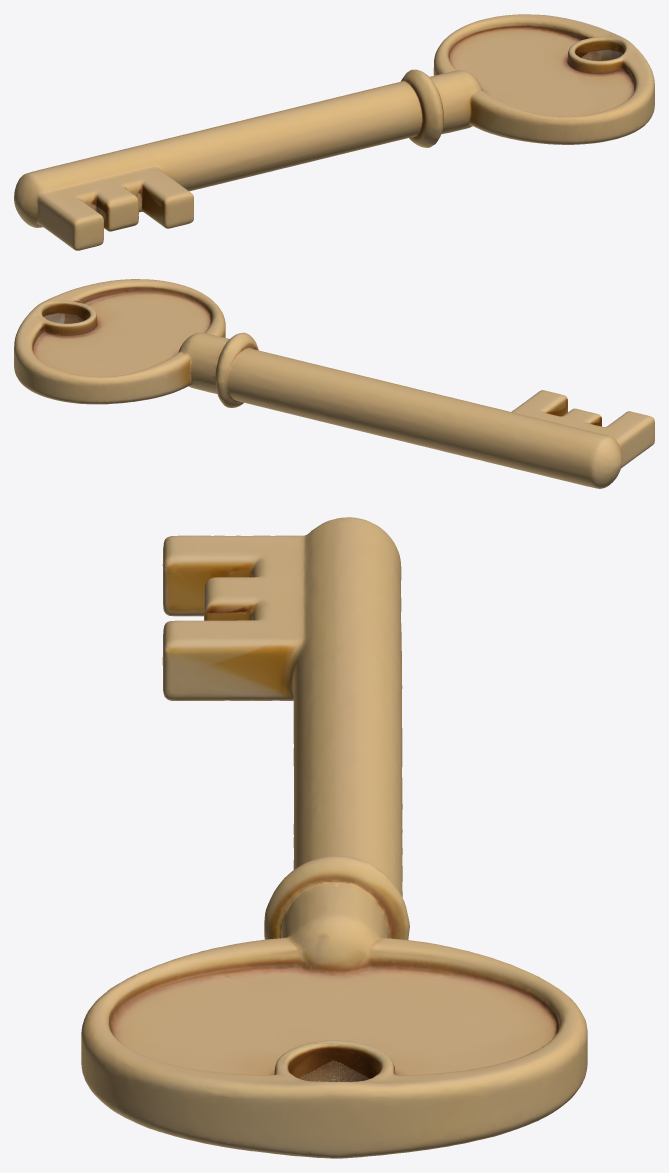
File: Golden_Key_1207145141_texture.obj
3 views of the same model, one above another, from view 1: azimuth 30°, elevation 25°; view 2: azimuth 150°, elevation 25°; view 3: azimuth 270°, elevation 25° (orthographic). The views are drawn at different scales.
Parts seen in each view (by area): view 1: Golden_Key_1207145141_texture; view 2: Golden_Key_1207145141_texture; view 3: Golden_Key_1207145141_texture.
Part boxes in pixels (left/top/right/bottom): Golden_Key_1207145141_texture: left=14, top=14, right=654, bottom=250; Golden_Key_1207145141_texture: left=14, top=279, right=654, bottom=488; Golden_Key_1207145141_texture: left=81, top=517, right=587, bottom=1158.
Size of the model in its own units: 1.9 by 0.2176 by 0.7124.
Materials: 1 (1 with a texture image).
